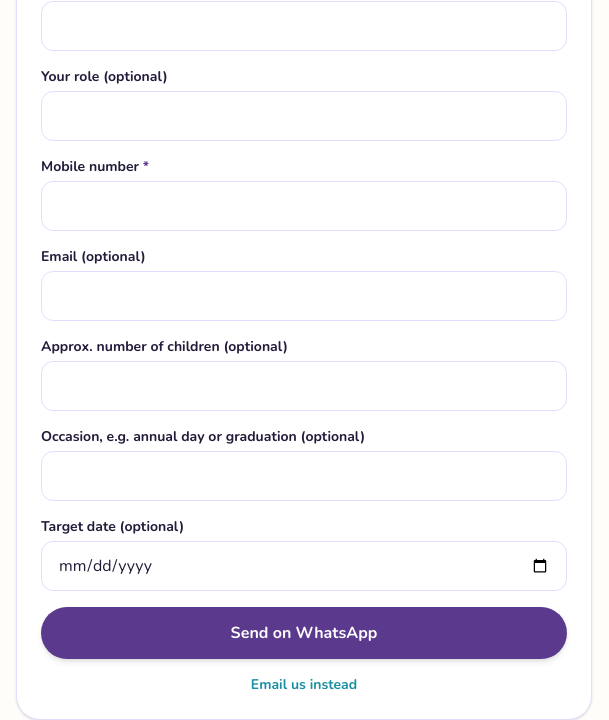
Test: QuoteForm › shows errors and does not open WhatsApp when required fields are empty
(page scrolled)
Step 1. Click the button "Send on WhatsApp" → (304, 633), box x1=41 y1=607 x2=567 y2=659
(page scrolled)
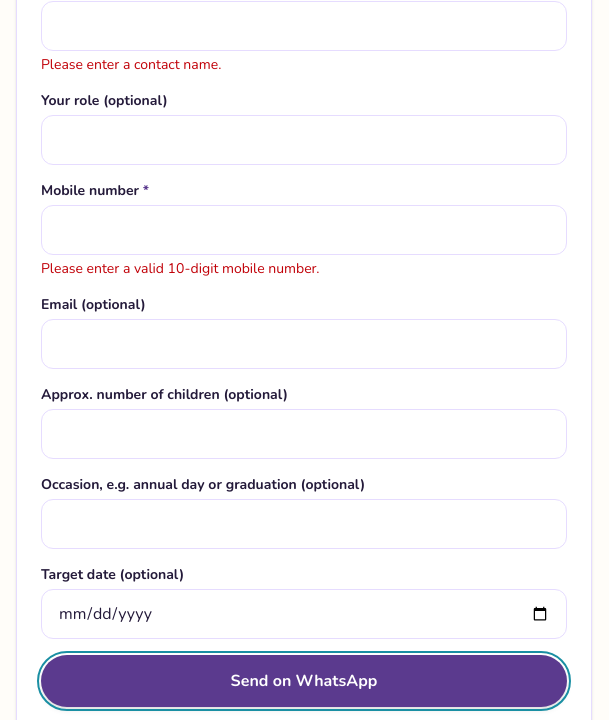
Now the text "Please enter a valid 10-digit mobile number." is shown, box x1=41 y1=259 x2=320 y2=278
